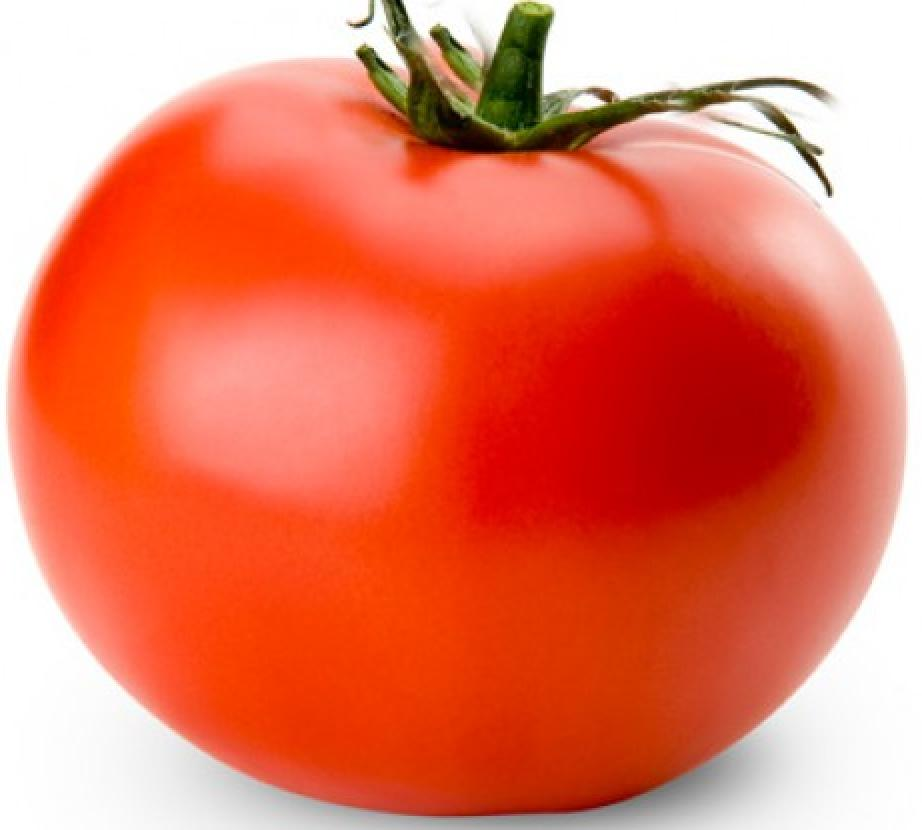tomato: (20, 56, 879, 815)
